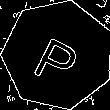P_NE: (30, 24, 86, 85)
